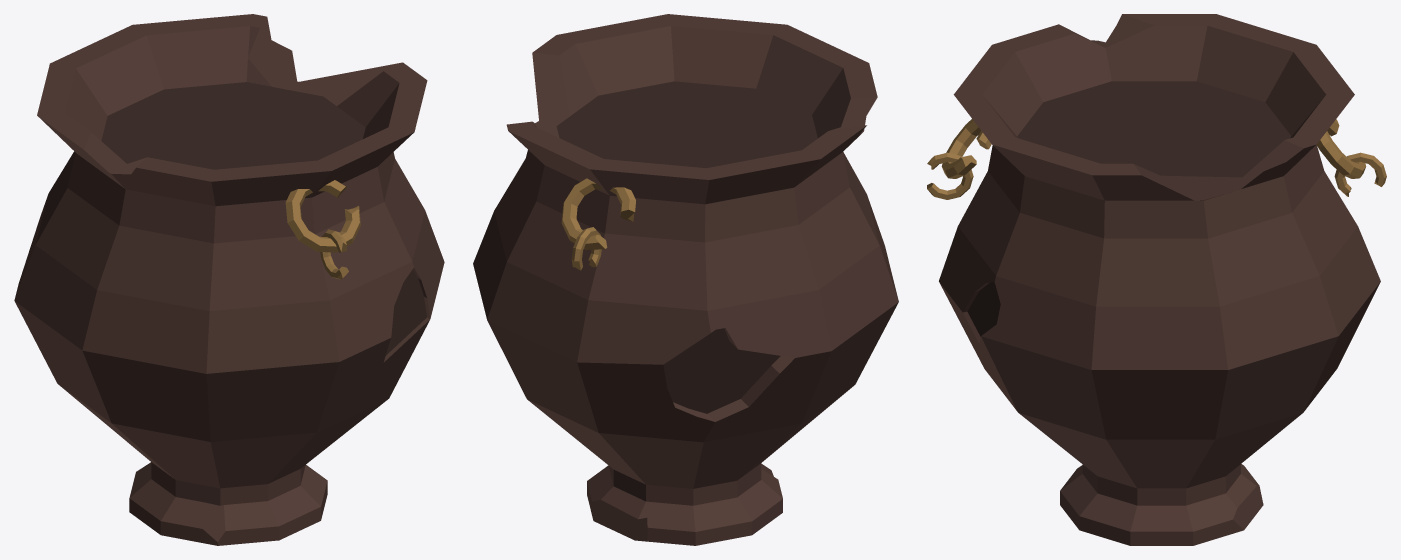
File: Small Pot without Plant.fbx
3 renders of one model, left to right at view 1: azimuth 30°, elevation 25°; view 2: azimuth 150°, elevation 25°; view 3: azimuth 270°, elevation 25°, orthographic.
Parts seen in each view (by area): view 1: Small Pot Without Plant; view 2: Small Pot Without Plant; view 3: Small Pot Without Plant.
Part boxes in pixels (left/top/right/bottom): Small Pot Without Plant: left=14, top=14, right=444, bottom=545; Small Pot Without Plant: left=473, top=14, right=898, bottom=545; Small Pot Without Plant: left=927, top=14, right=1386, bottom=545.
Bounding box in the file's own units: 86.79 × 93.45 × 94.91.
